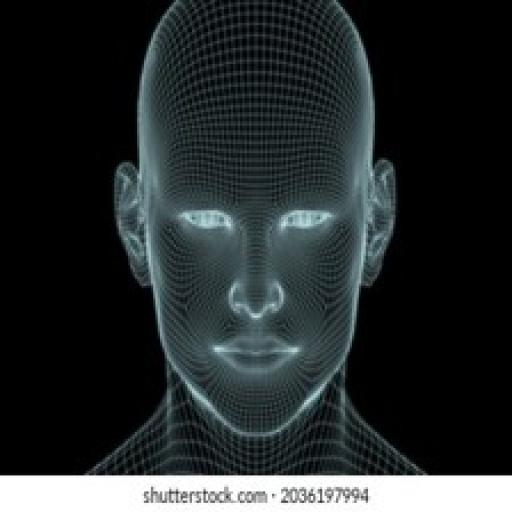human: (79, 0, 428, 473)
